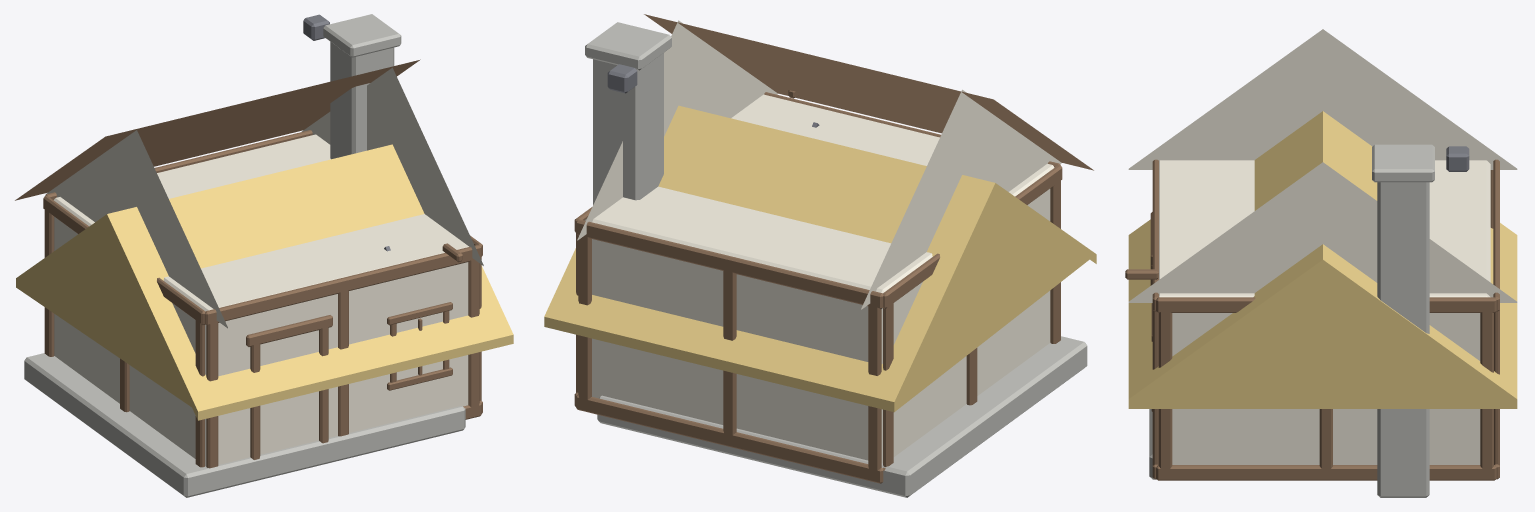
File: town_fletcher_shop.glb
The picture shows the model from 3 angles, left to right: view 1: azimuth 30°, elevation 25°; view 2: azimuth 150°, elevation 25°; view 3: azimuth 270°, elevation 25°; orthographic projection. The views are drawn at different scales.
Visible parts, largest first — view 1: world; view 2: world; view 3: world.
Boxes of the visible parts, x1,y1,x2,y2 form: world: (15,14,513,497); world: (544,14,1096,497); world: (1125,29,1517,497).
Size of the model in its own units: 2 by 1.85 by 2.
